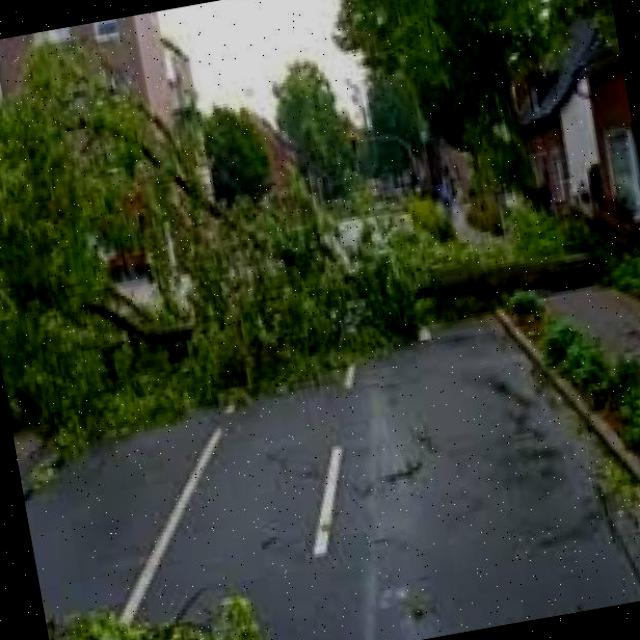fallen_object: (0, 3, 633, 416)
